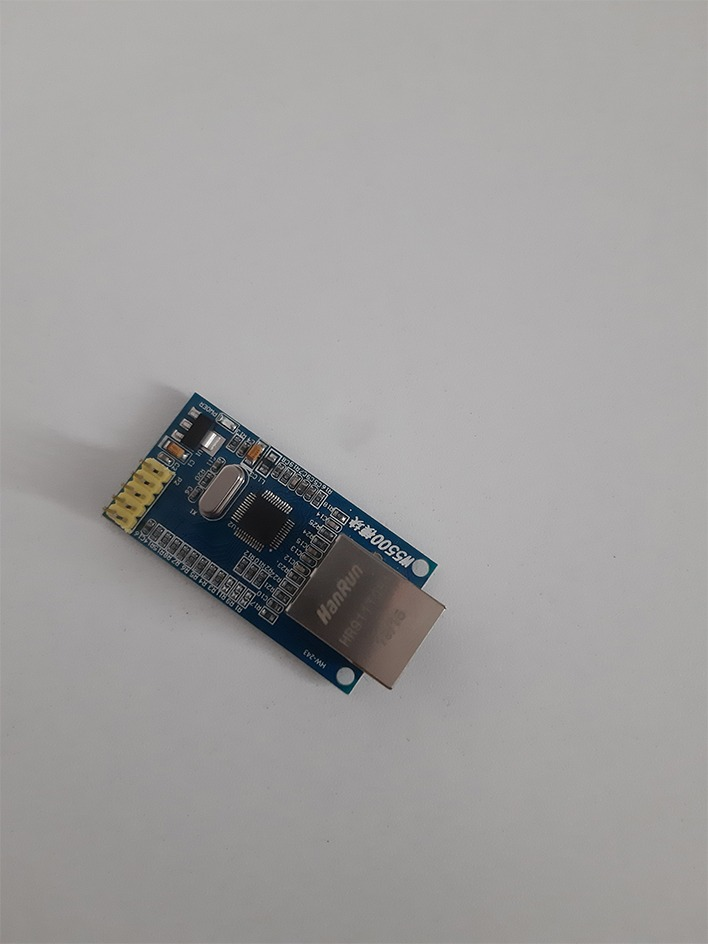Ethernet-W5500: (77, 345, 451, 745)
